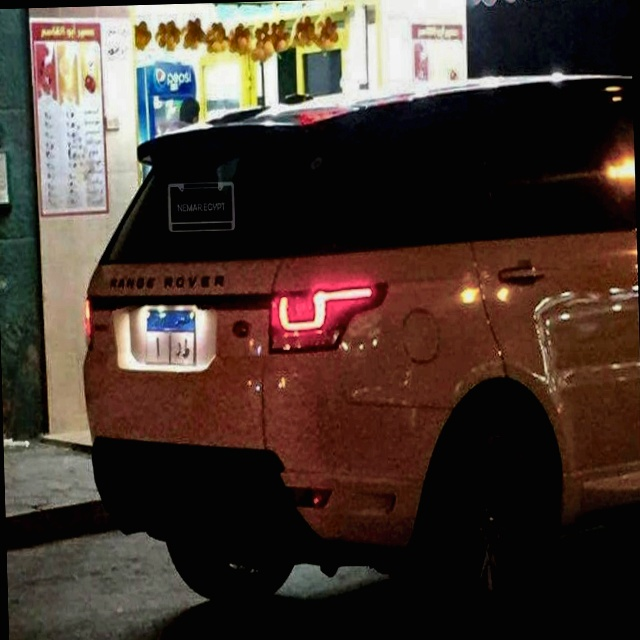License Plate: (140, 303, 200, 372)
